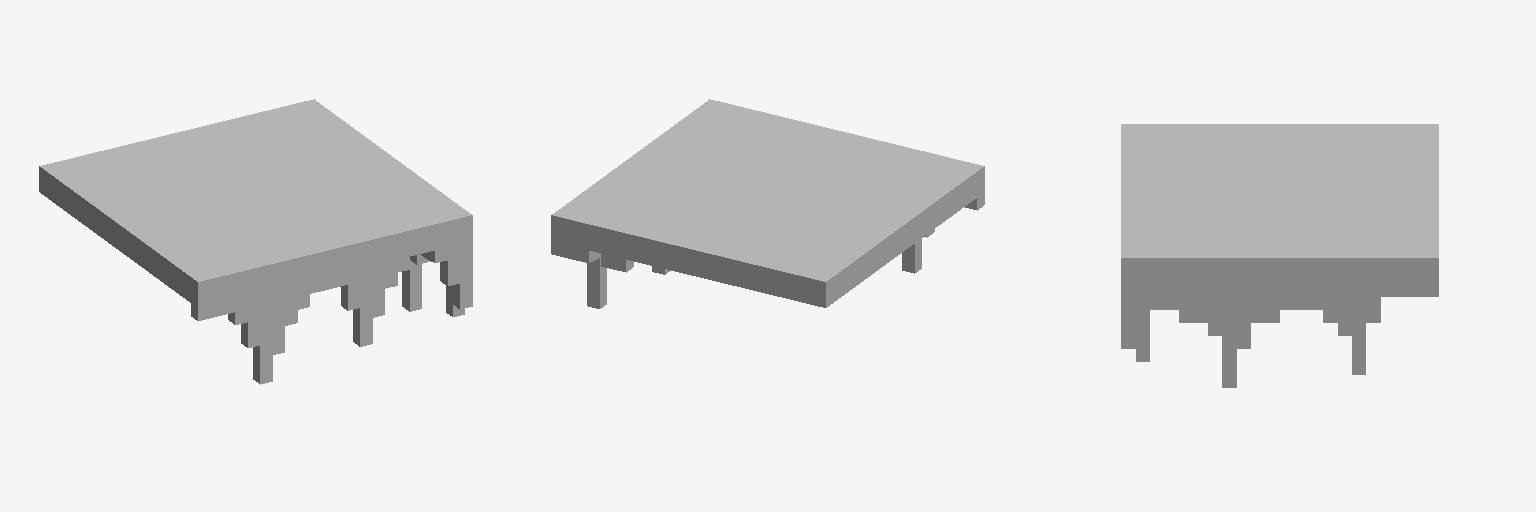
Rendered from Ice.obj.
3 views of the same model, side by side, from view 1: azimuth 30°, elevation 25°; view 2: azimuth 150°, elevation 25°; view 3: azimuth 270°, elevation 25° (orthographic).
Parts seen in each view (by area): view 1: object 1; view 2: object 1; view 3: object 1.
Part boxes in pixels (left/top/right/bottom): object 1: left=39, top=99, right=472, bottom=384; object 1: left=551, top=99, right=984, bottom=308; object 1: left=1121, top=124, right=1438, bottom=387.
Bounding box in the file's own units: 2.2 × 1 × 2.2.